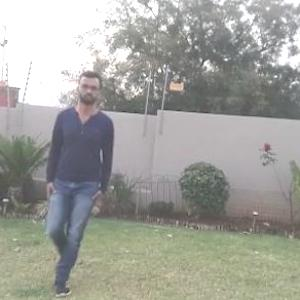follow: (57, 59, 145, 299)
